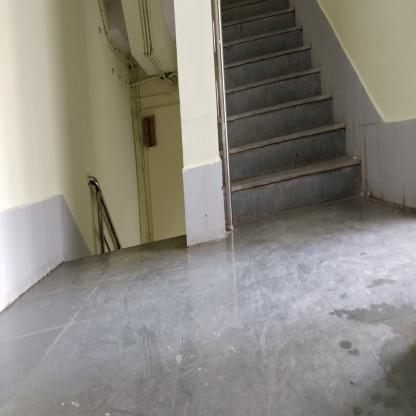stairs: (235, 19, 301, 222)
